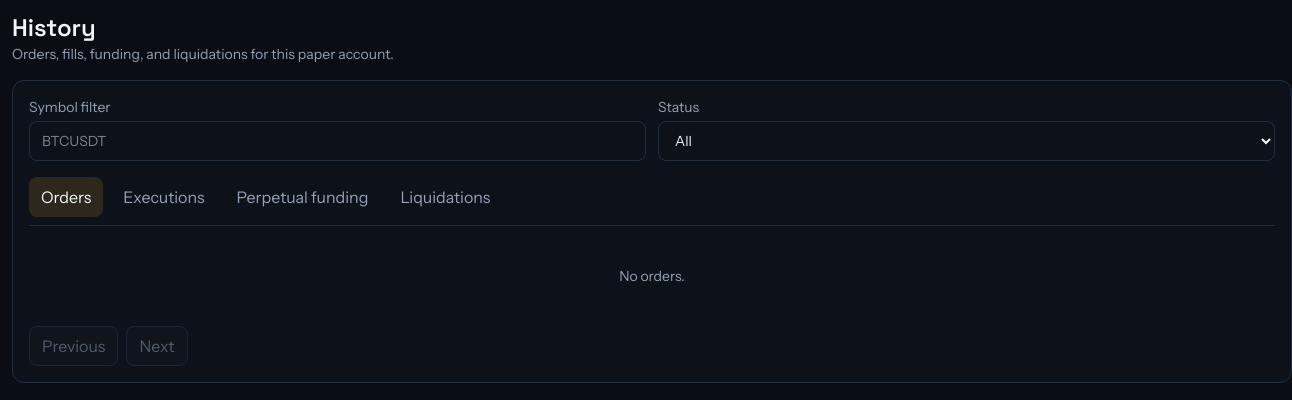
Test: HistoryPage › hides status off Orders and symbol off funding/liquidations
Expected: the text "No orders." is shown, [619,267,685,285]
Step 1. Click the tab "Executions" → (164, 197), box [111,177,217,217]
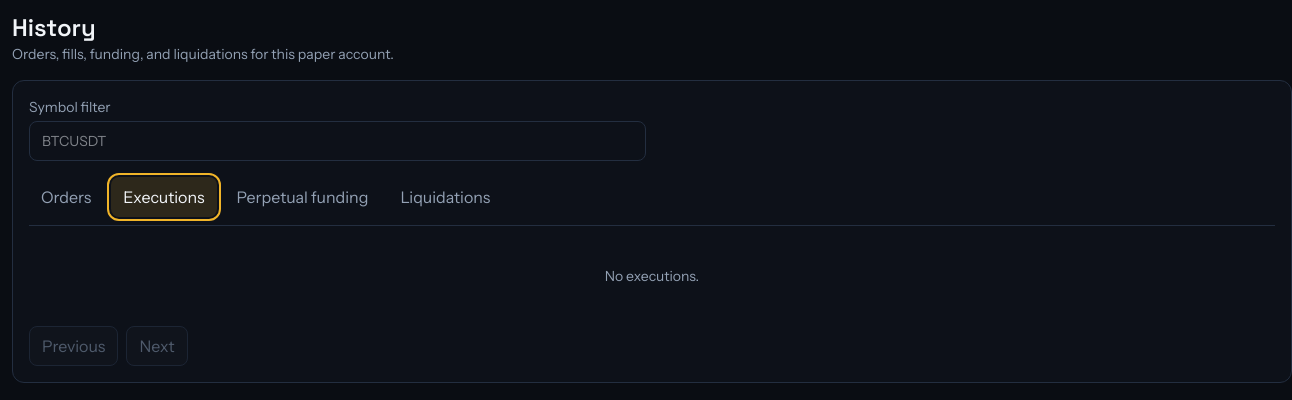
Expected: the field labelled "Symbol filter" is shown, [29,121,646,161]
Result: the dropdown labelled "Order status" is gone
Result: the text "No executions." is shown at [605,267,699,285]
Step 2. Click the tab "Perpetual funding" → (302, 197), box [224,177,380,217]
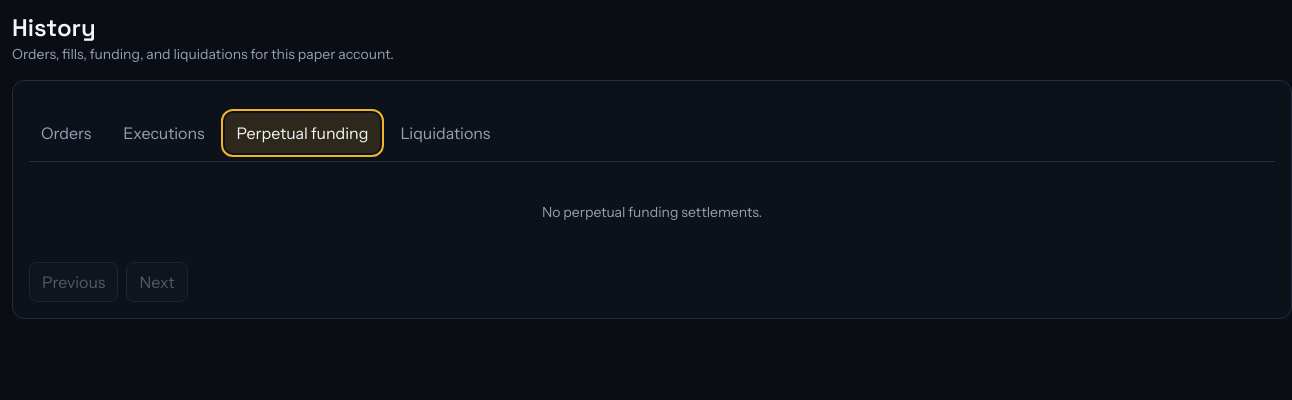
Expected: the dropdown labelled "Order status" is not shown
Result: the text labelled "Symbol filter" is gone
Result: the text "No perpetual funding settlements." is shown at [542,203,762,221]
